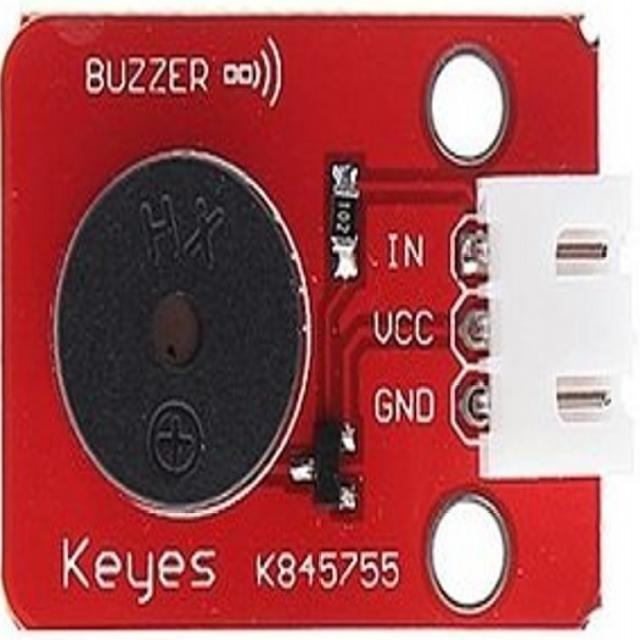4439: (301, 417, 351, 511)
buzzer: (44, 144, 308, 507)
connector -5v-: (470, 175, 640, 490)
resistor IR1: (331, 173, 359, 263)
